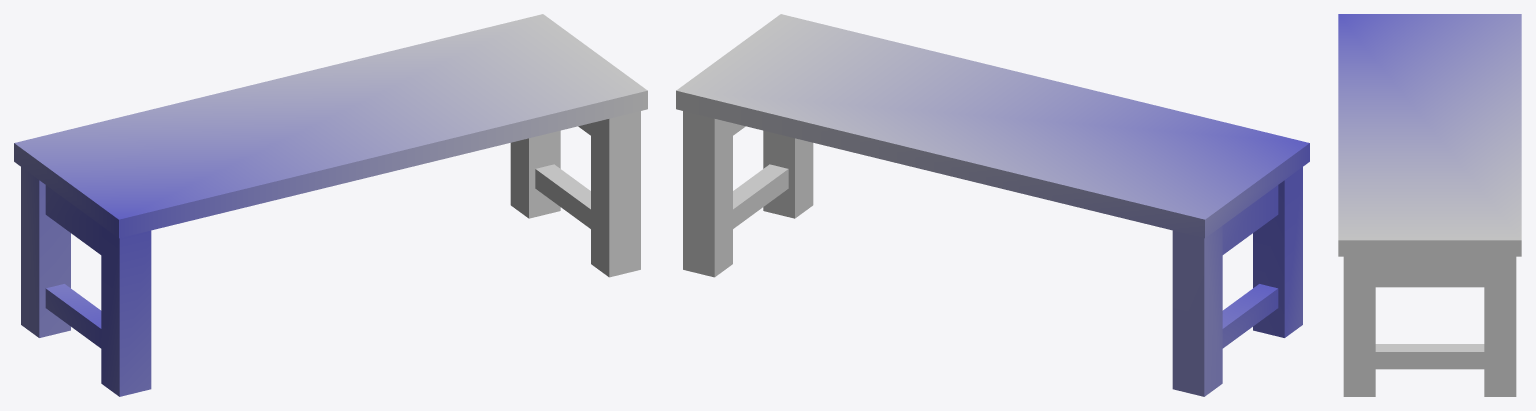
File: Bench_2.fbx
The picture shows the model from 3 angles, left to right: view 1: azimuth 30°, elevation 25°; view 2: azimuth 150°, elevation 25°; view 3: azimuth 270°, elevation 25°; orthographic projection. The views are drawn at different scales.
Visible parts, largest first — view 1: Bench_2; view 2: Bench_2; view 3: Bench_2.
Boxes of the visible parts, x1,y1,x2,y2 form: Bench_2: (14,14,647,396); Bench_2: (676,14,1309,396); Bench_2: (1338,14,1521,396).
Bounding box in the file's own units: 1.75 × 0.5704 × 0.6.
